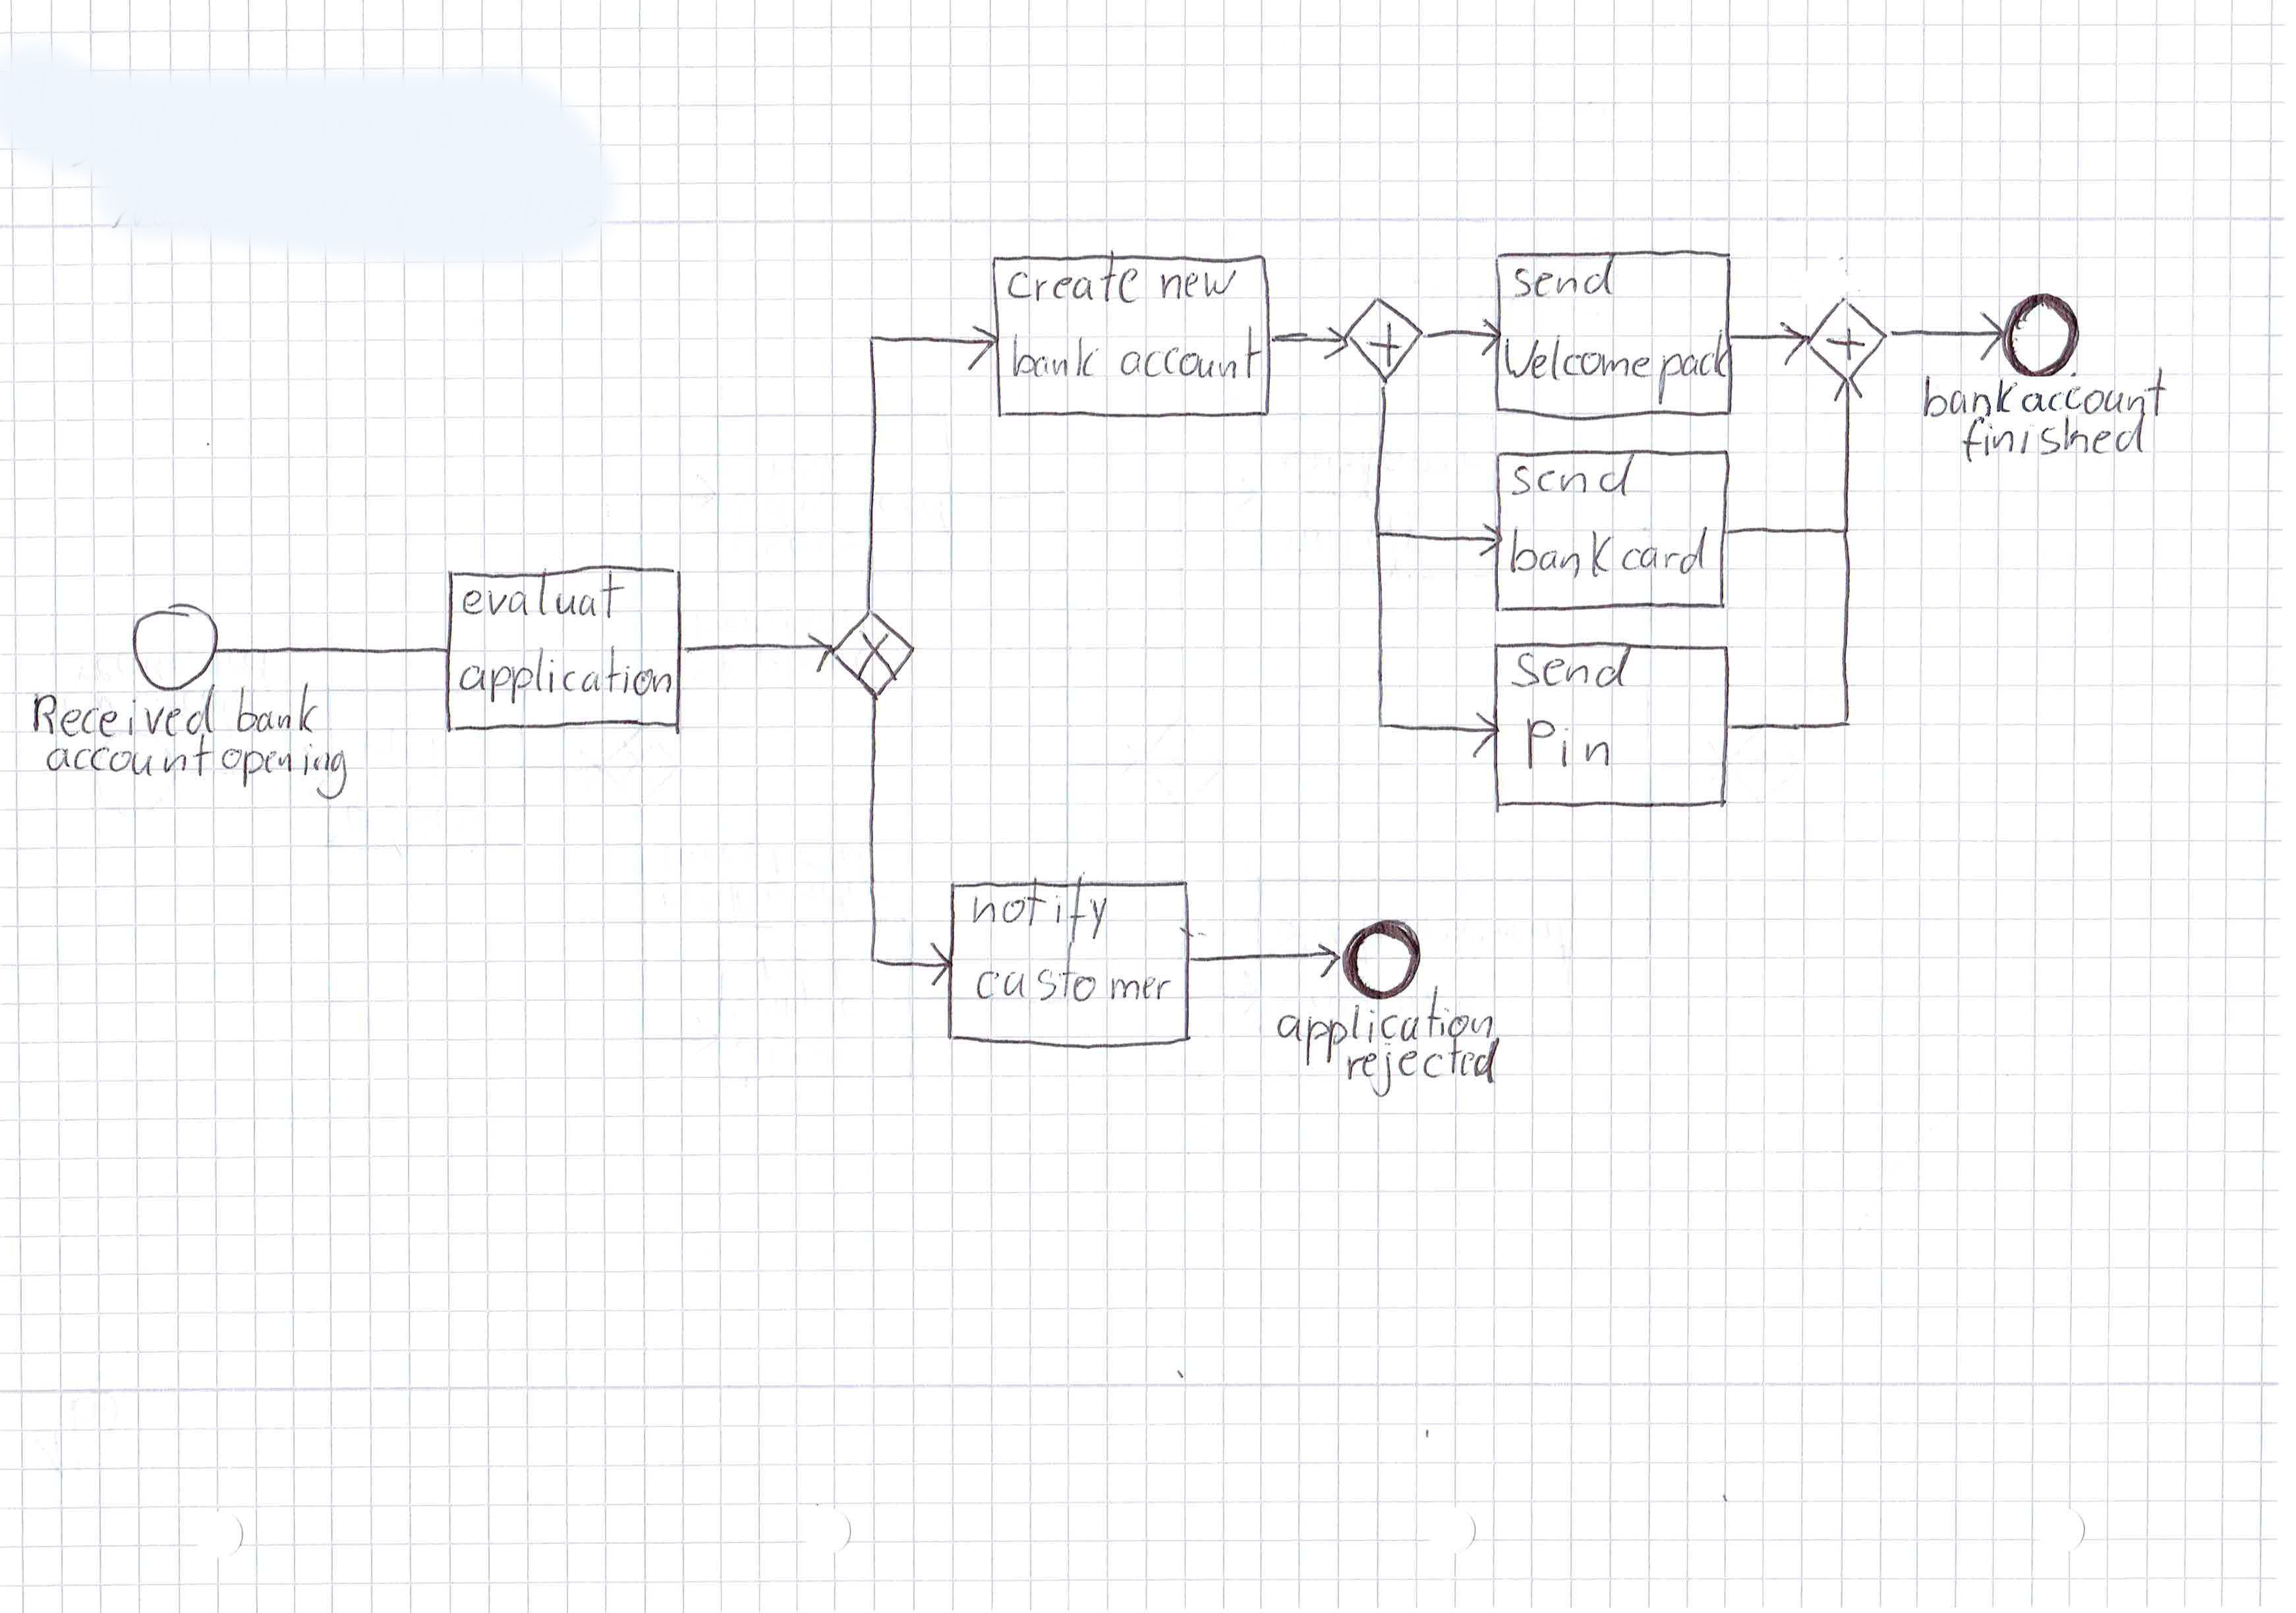Pin: (1519, 710, 1615, 775)
Received: (31, 686, 223, 742)
Welcome: (1505, 330, 1657, 389)
account: (1116, 321, 1264, 384), (42, 737, 218, 782), (2018, 374, 2177, 422)
application: (1278, 988, 1498, 1047), (457, 646, 677, 705)
bank: (1509, 524, 1619, 581), (236, 679, 332, 742), (1922, 368, 2017, 422), (1007, 333, 1107, 382)
card: (1613, 527, 1713, 581)
create: (1000, 260, 1158, 307)
customer: (971, 944, 1173, 1009)
evaluat: (461, 571, 627, 621)
finished: (1957, 414, 2158, 463)
new: (1158, 264, 1236, 305)
notify: (966, 878, 1112, 944)
opening: (220, 740, 349, 803)
pack: (1657, 332, 1741, 407)
rejected: (1339, 1042, 1500, 1098)
send: (1510, 456, 1641, 501), (1507, 648, 1636, 693), (1510, 255, 1622, 302)
